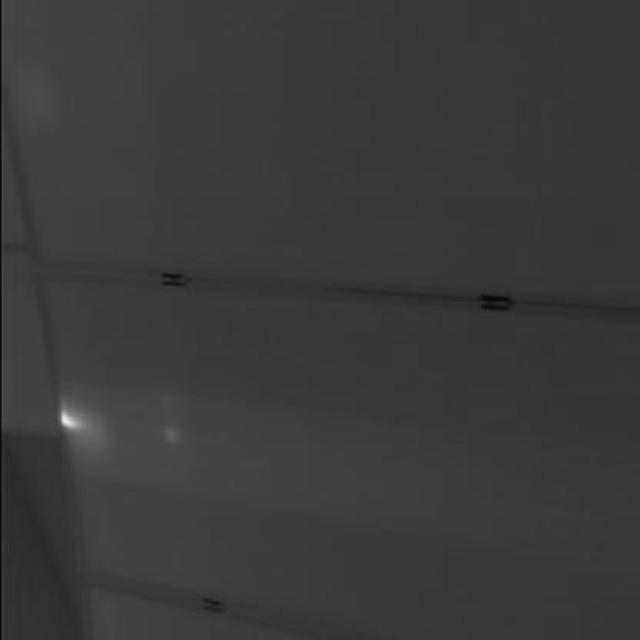hotspot: (51, 395, 104, 448)
